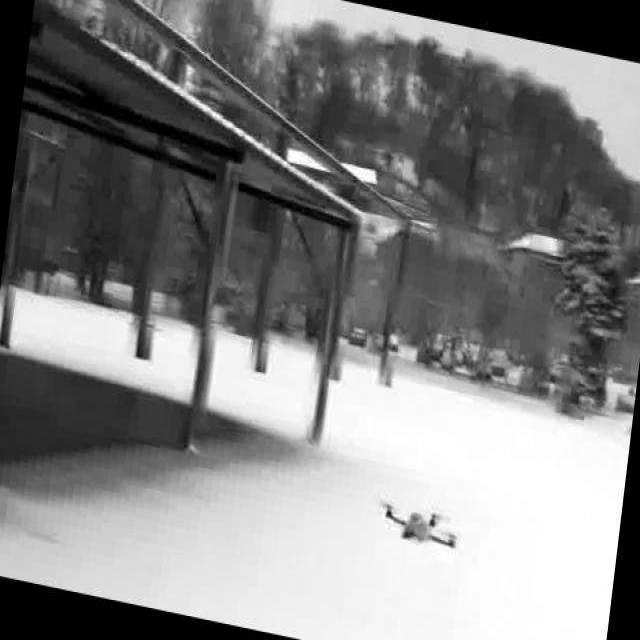drone: (363, 483, 471, 566)
